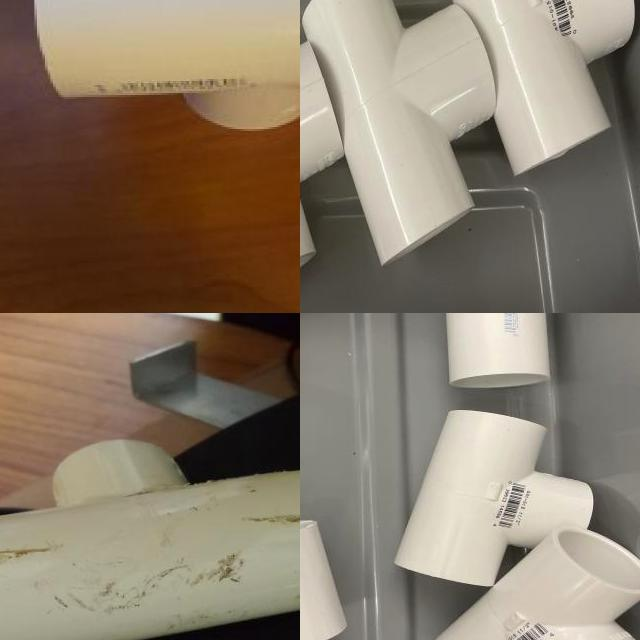Defective: (158, 517, 275, 568), (238, 515, 300, 552), (0, 546, 68, 565), (154, 491, 183, 495)
T Joint: (0, 442, 300, 640), (300, 0, 497, 269)
